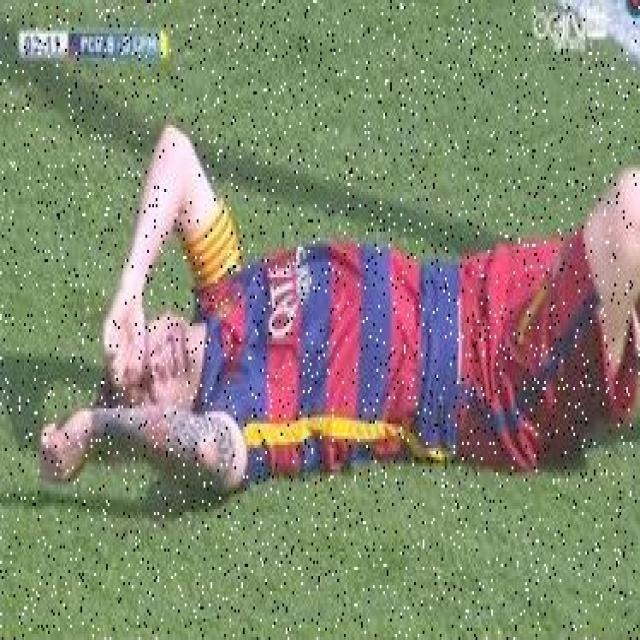fall: (32, 137, 638, 506)
